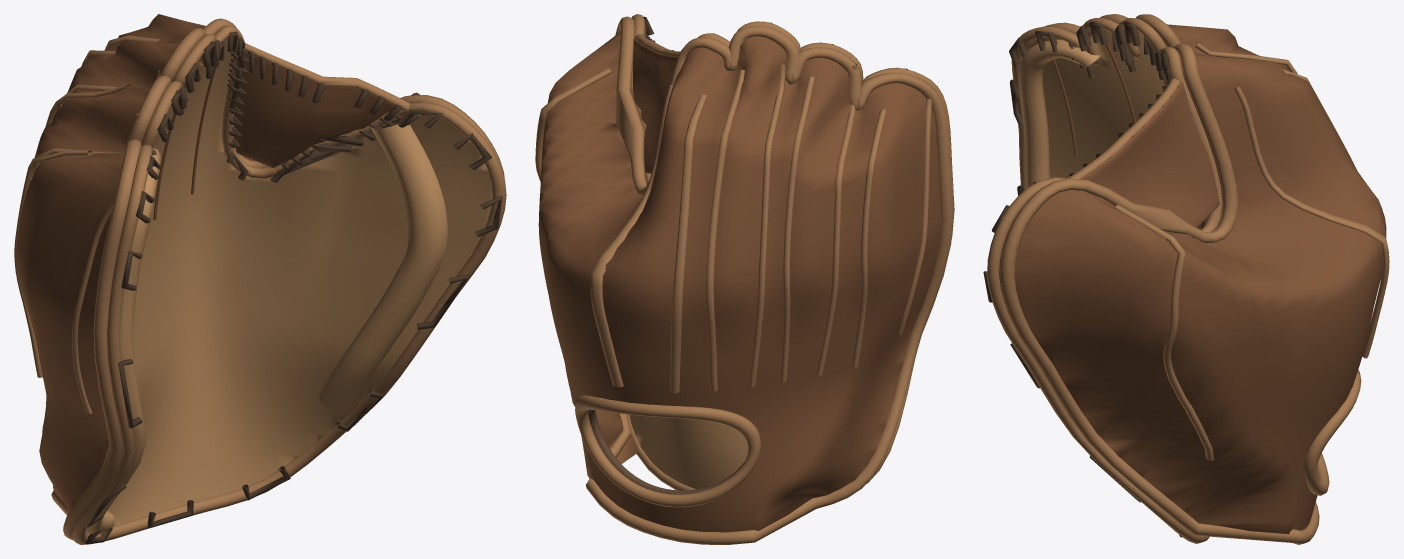
The model's file is pitch-glove.glb.
The picture shows the model from 3 angles, left to right: view 1: azimuth 30°, elevation 25°; view 2: azimuth 150°, elevation 25°; view 3: azimuth 270°, elevation 25°; orthographic projection. The views are drawn at different scales.
Visible parts, largest first — view 1: pitch glove; view 2: pitch glove; view 3: pitch glove.
Part boxes in pixels (box(x1,y1,x2,y2)): pitch glove: box(14, 14, 506, 544); pitch glove: box(535, 14, 954, 544); pitch glove: box(983, 14, 1389, 544).
Size of the model in its own units: 0.2376 by 0.2957 by 0.2197.
